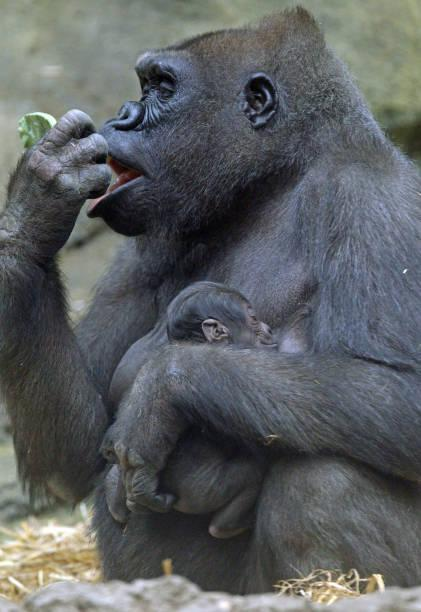gorille_Autres: (2, 0, 421, 612)
